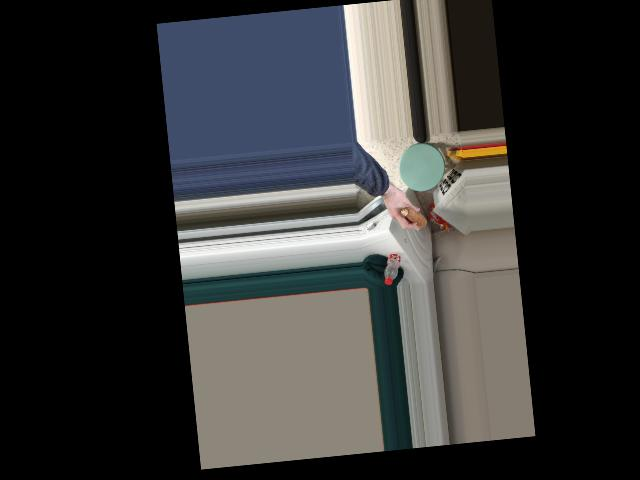sweet_potato: (397, 202, 426, 232)
